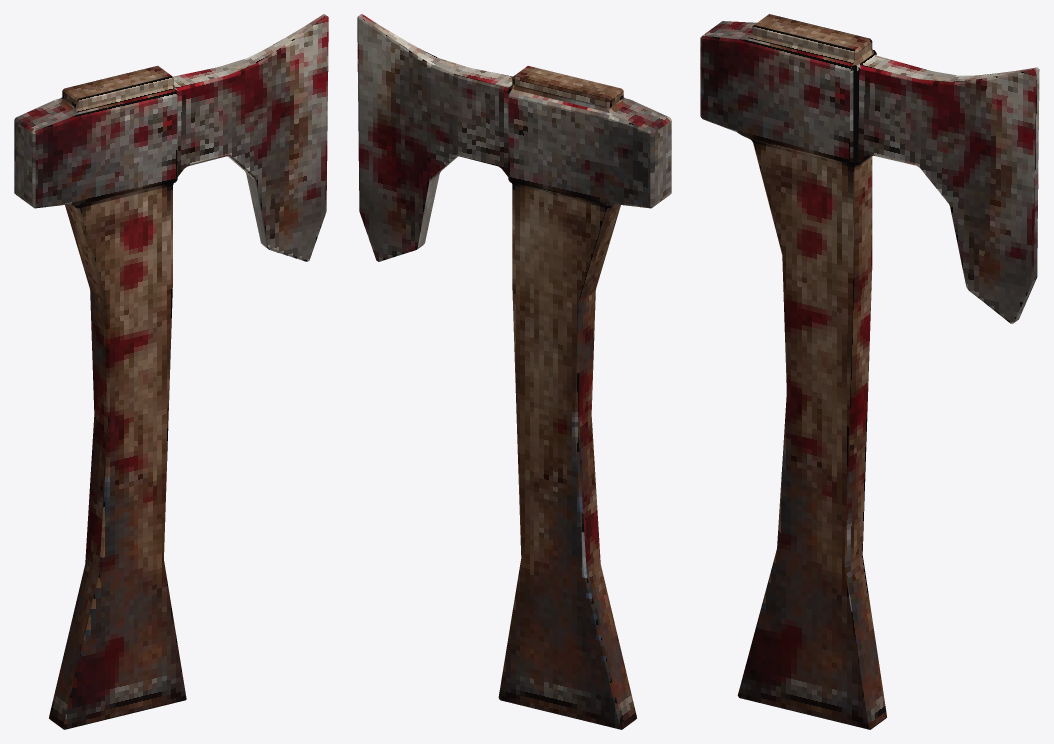
Rendered from bwoutProps.glb.
3 views of the same model, side by side, from view 1: azimuth 30°, elevation 25°; view 2: azimuth 150°, elevation 25°; view 3: azimuth 330°, elevation 25° (orthographic). The views are drawn at different scales.
Visible parts, largest first — view 1: basic_axe; view 2: basic_axe; view 3: basic_axe.
Part boxes in pixels (<box>): basic_axe: <box>14,14,328,729</box>; basic_axe: <box>357,14,671,729</box>; basic_axe: <box>700,14,1039,729</box>.
Bounding box in the file's own units: 0.7038 × 1.43 × 0.0961.
1 material, 1 textured.
